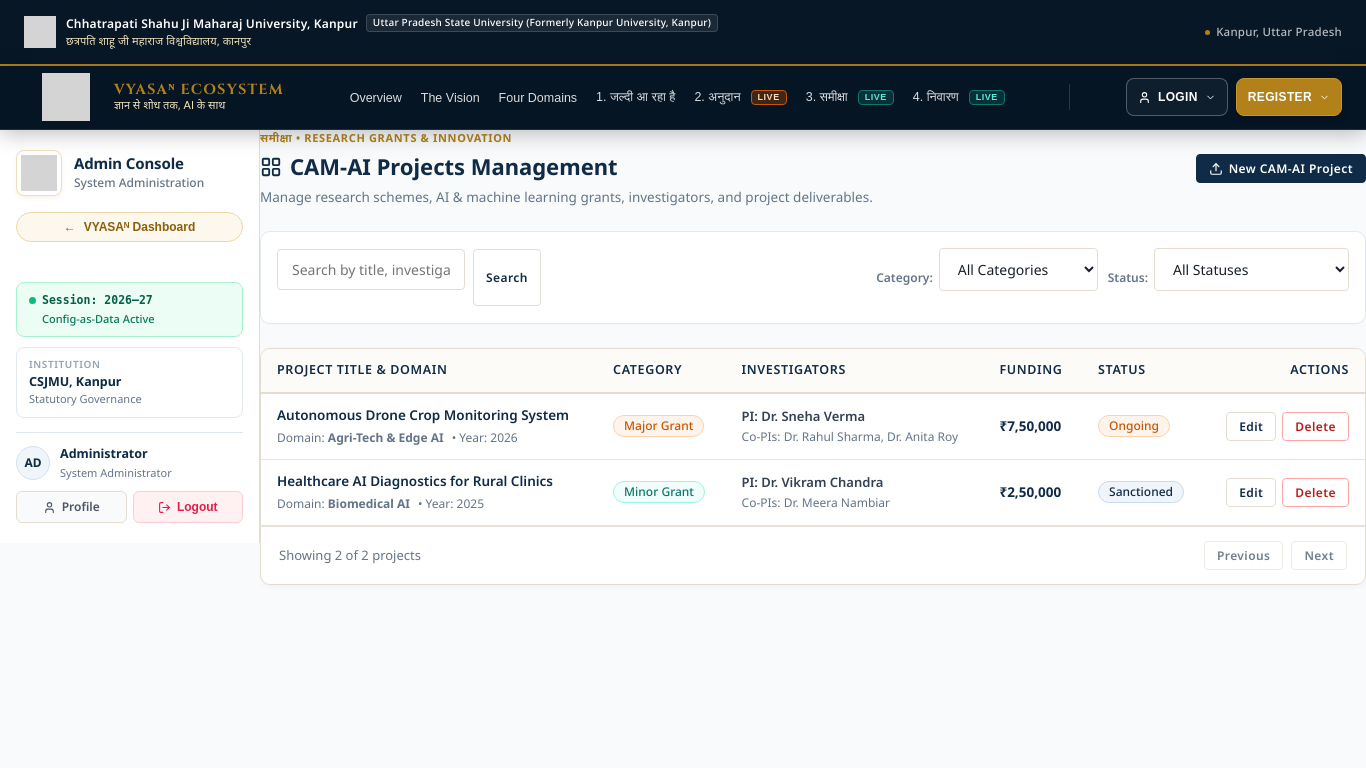
Scenario: CAM-AI Projects CMS Page - Data Integrity & Update Flow › updates CAM-AI project successfully without 500 or serialization errors
Later steps or results of the test are not shown.
Expected: the text "Autonomous Drone Crop Monitoring System" is shown, 277,406 -> 581,425
Click the button "Edit" in the row of "Autonomous Drone Crop Monitoring System" at (1251, 426), box 1226,412 -> 1276,441
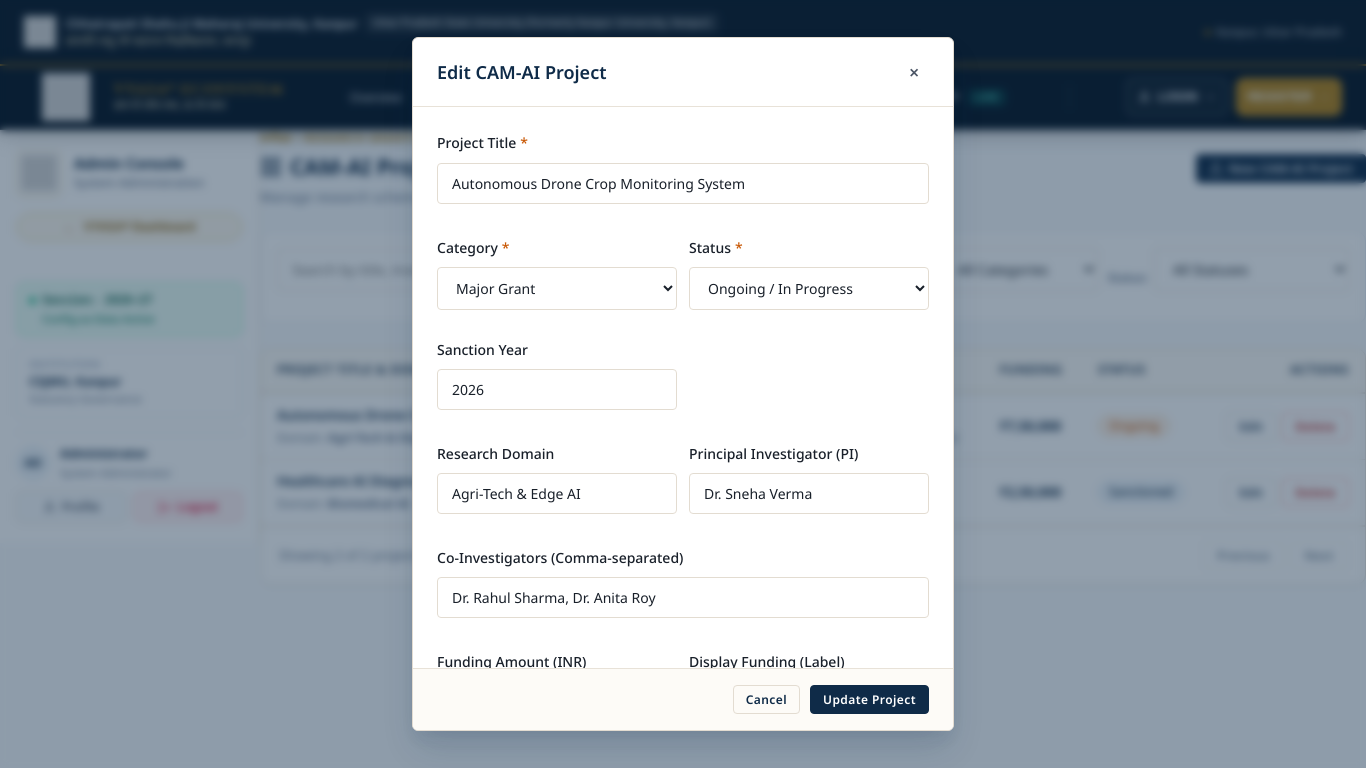
Result: the heading "Edit CAM-AI Project" is shown at 437,59 -> 606,86
